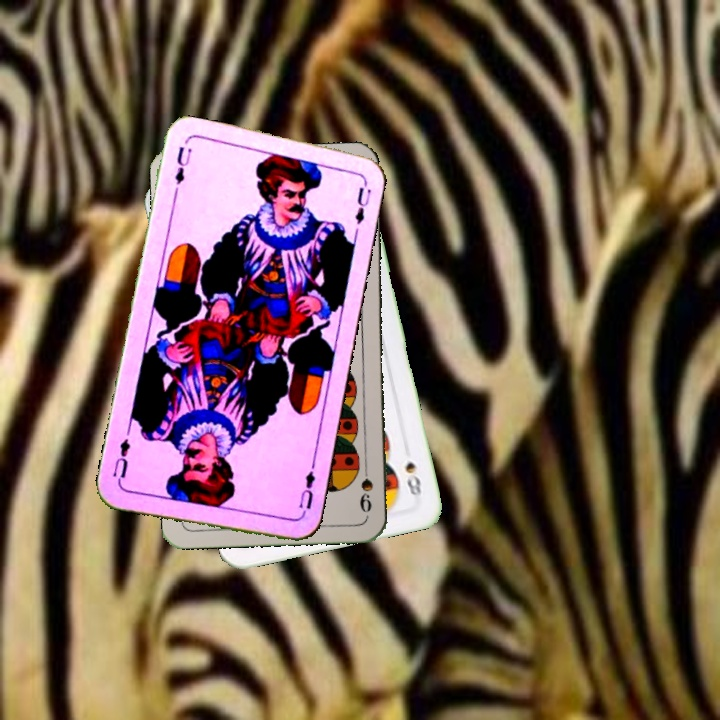EU: (295, 466, 318, 518), (171, 143, 194, 187)
S8: (401, 457, 424, 498)
S9: (356, 457, 376, 515)
